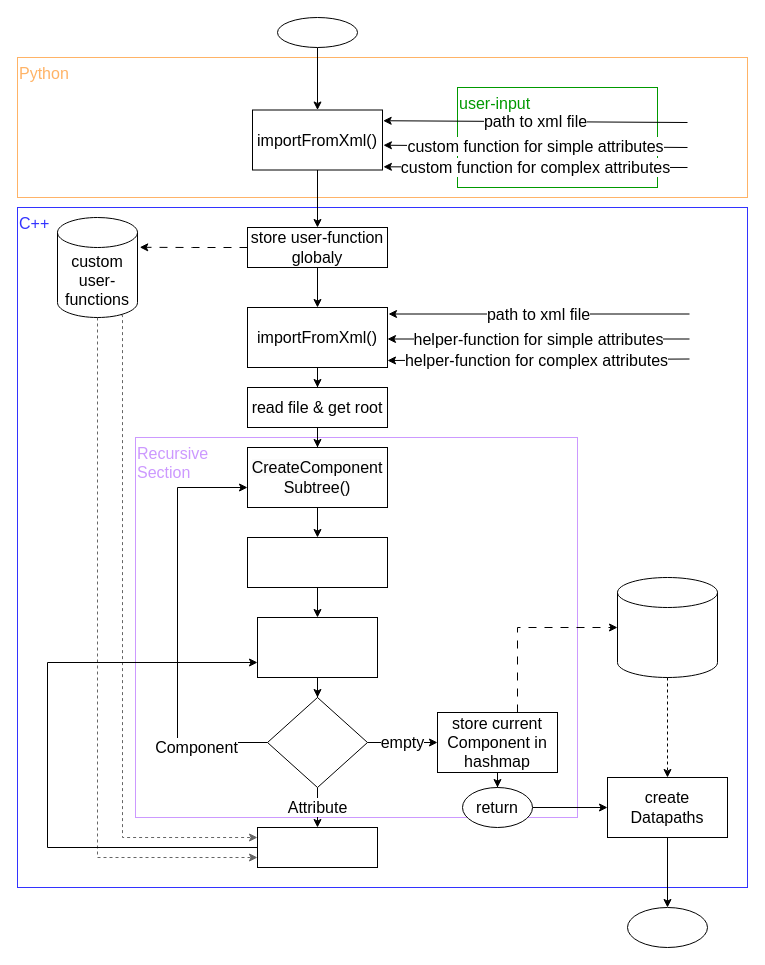
The diagram is 765 pixels wide and 965 high, and some of its shapes have lost their labels. Here are the shapes that lost their labels. From the top down, the centre of each, then its label:
At [317,32]: "start".
At [317,562]: "Create Component from xmlNode".
At [317,647]: "get next child node from xml".
At [667,627]: "stored Components' addresses".
At [317,742]: "type of xmlNode".
At [317,847]: "collect_attrib()".
At [667,927]: "stop".
